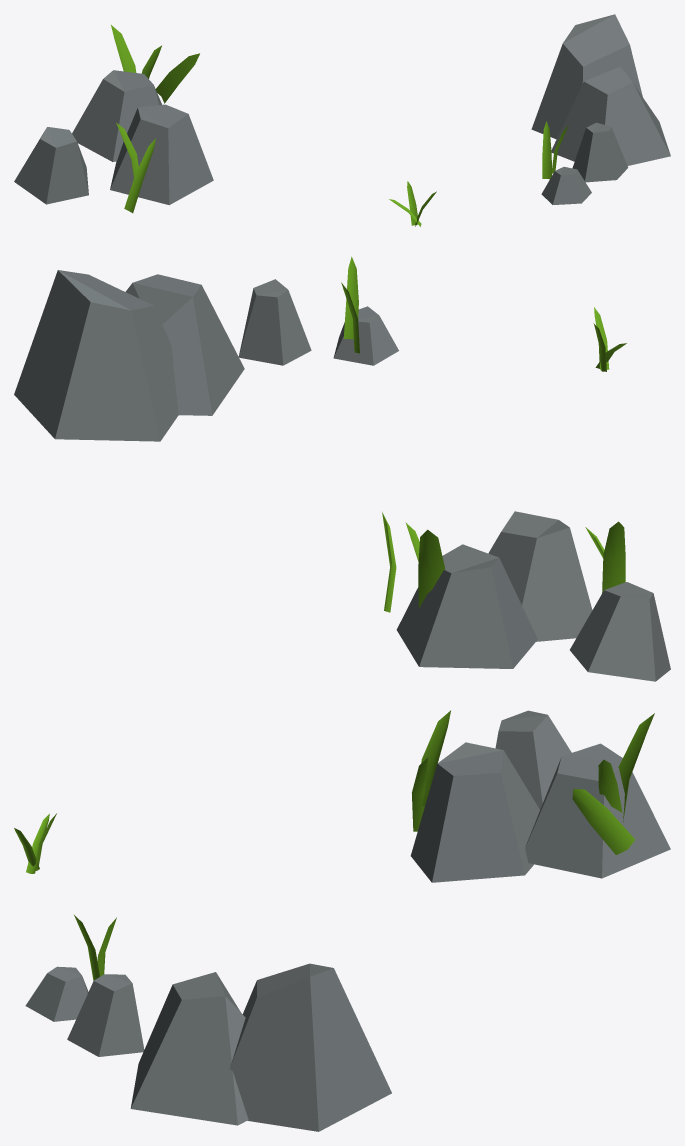
Rendered from Flora_Small_03.fbx.
The picture shows the model from 3 angles, top to bottom: view 1: azimuth 30°, elevation 25°; view 2: azimuth 150°, elevation 25°; view 3: azimuth 270°, elevation 25°; orthographic projection. The views are drawn at different scales.
Visible parts, largest first — view 1: Color_02, Color_07, Color_04, Color_06; view 2: Color_02, Color_07, Color_04, Color_06; view 3: Color_02, Color_07, Color_04, Color_06.
Boxes of the visible parts, box(x1,y1,x2,y2) form: Color_02: box(531, 14, 670, 204); Color_07: box(14, 70, 213, 205); Color_04: box(111, 25, 199, 213); Color_06: box(389, 121, 568, 226); Color_02: box(14, 270, 398, 441); Color_07: box(396, 511, 670, 681); Color_04: box(382, 512, 625, 612); Color_06: box(341, 256, 626, 371); Color_02: box(25, 963, 391, 1131); Color_07: box(410, 710, 670, 882); Color_04: box(412, 710, 654, 854); Color_06: box(14, 813, 116, 980).
Size of the model in its own units: 28.43 by 5.85 by 20.71.
